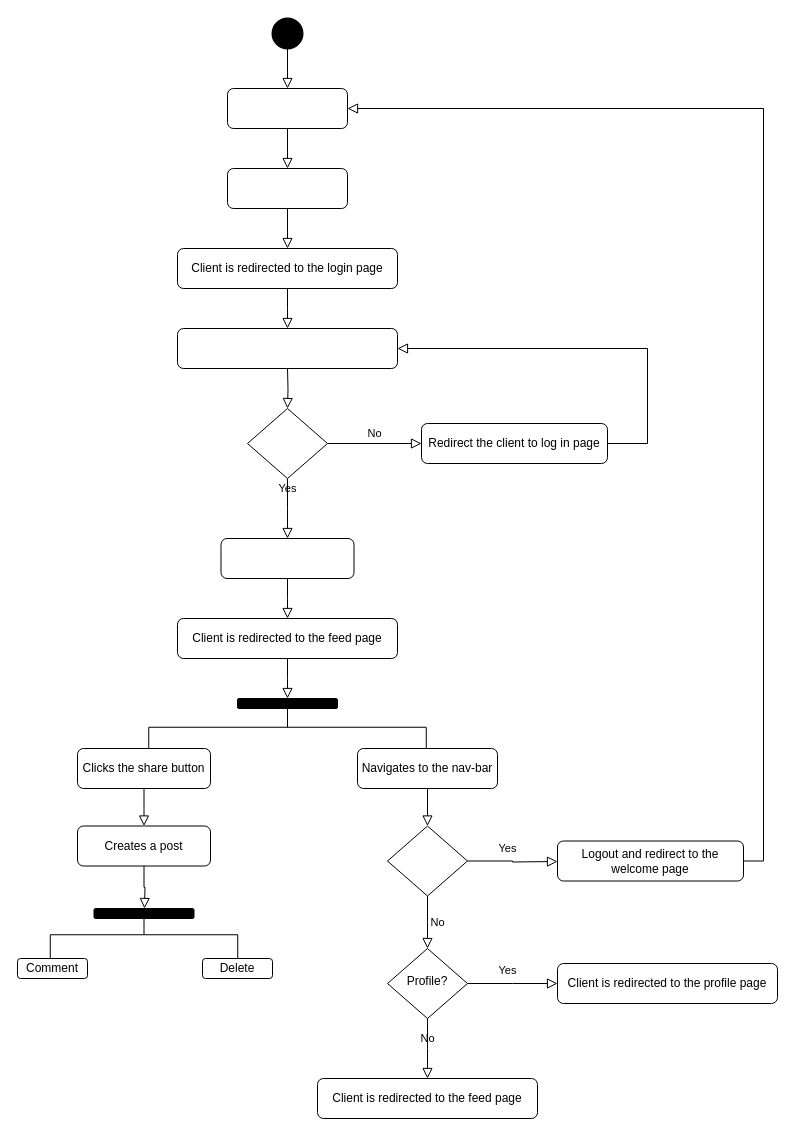
Some shapes in this 795 by 1136 pixel diagram are drawn without their labels. Here are the shapes that lost their labels. From the top down, the box of each, then its label:
(226, 88, 348, 128): Welcome page
(226, 168, 348, 208): Client registers
(176, 328, 398, 368): Client logs in with the username and the password provided before
(246, 408, 328, 478): Correct data?
(220, 538, 354, 578): Log in is successful
(386, 825, 468, 896): Logout?
